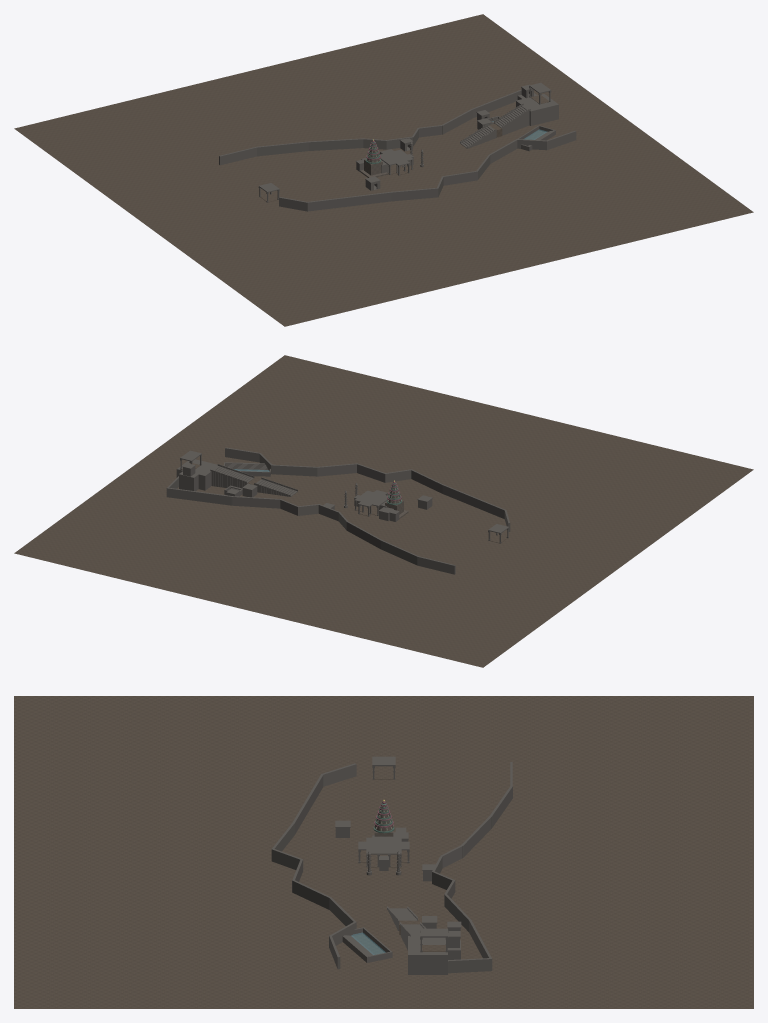
The model's file is tuljapur_bhavani_kshetra_full.glb.
3 renders of one model, top to bottom at view 1: azimuth 30°, elevation 25°; view 2: azimuth 150°, elevation 25°; view 3: azimuth 270°, elevation 25°, orthographic. The views are drawn at different scales.
Parts seen in each view (by area): view 1: Ground_Main, Tuljapur_Prakar.001, Descent_Upper_Landing, Tuljapur_Prakar.016, Tuljapur_Prakar.017; view 2: Ground_Main, Tuljapur_Prakar.010, Tuljapur_Prakar.001, Descent_Upper_Landing; view 3: Ground_Main, Descent_Upper_Landing, Mandapa, Tuljapur_Prakar.009, Tuljapur_Prakar.005.
Part boxes in pixels (bbox=[...]): Ground_Main: bbox=[14, 14, 753, 326]; Tuljapur_Prakar.001: bbox=[307, 192, 391, 211]; Descent_Upper_Landing: bbox=[516, 94, 558, 125]; Tuljapur_Prakar.016: bbox=[308, 138, 363, 150]; Tuljapur_Prakar.017: bbox=[256, 141, 308, 156]; Ground_Main: bbox=[14, 355, 753, 667]; Tuljapur_Prakar.010: bbox=[166, 488, 232, 505]; Tuljapur_Prakar.001: bbox=[442, 484, 505, 518]; Descent_Upper_Landing: bbox=[176, 459, 218, 490]; Ground_Main: bbox=[14, 696, 753, 1008]; Descent_Upper_Landing: bbox=[408, 936, 447, 974]; Mandapa: bbox=[366, 837, 401, 867]; Tuljapur_Prakar.009: bbox=[448, 958, 491, 973]; Tuljapur_Prakar.005: bbox=[292, 880, 331, 909].
Size of the model in its own units: 180 by 12.27 by 180.
Materials: 17 (5 with a texture image).
